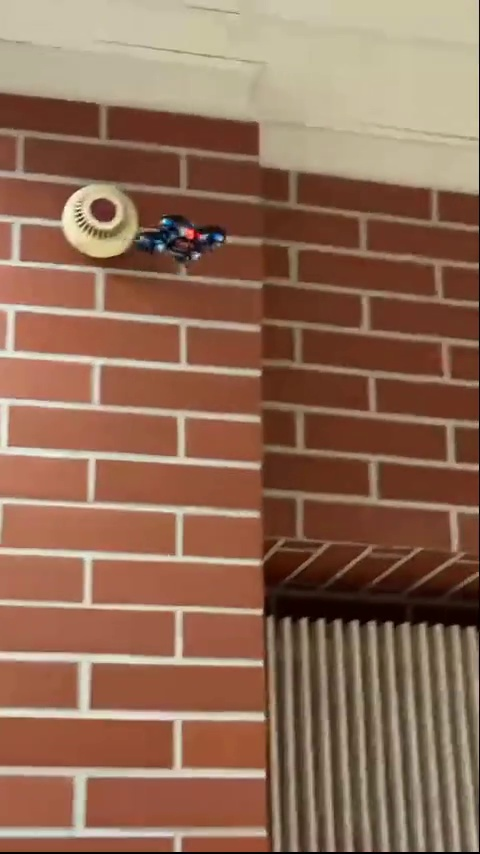drone: (138, 210, 230, 268)
